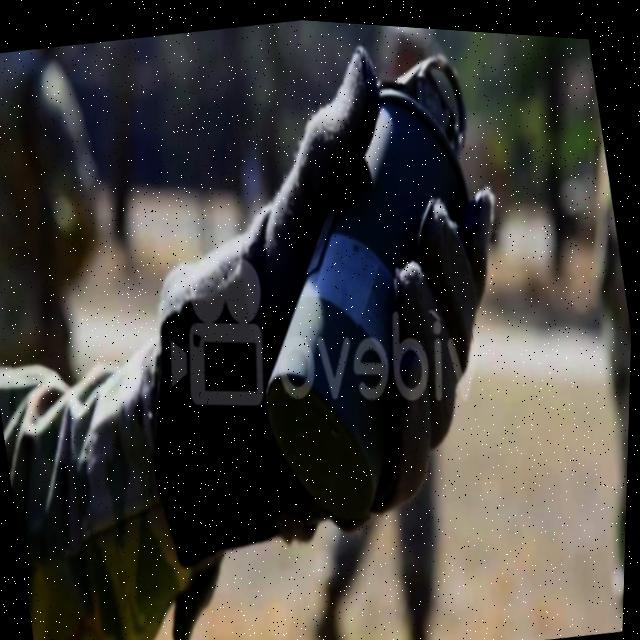grenade: (184, 10, 562, 565)
